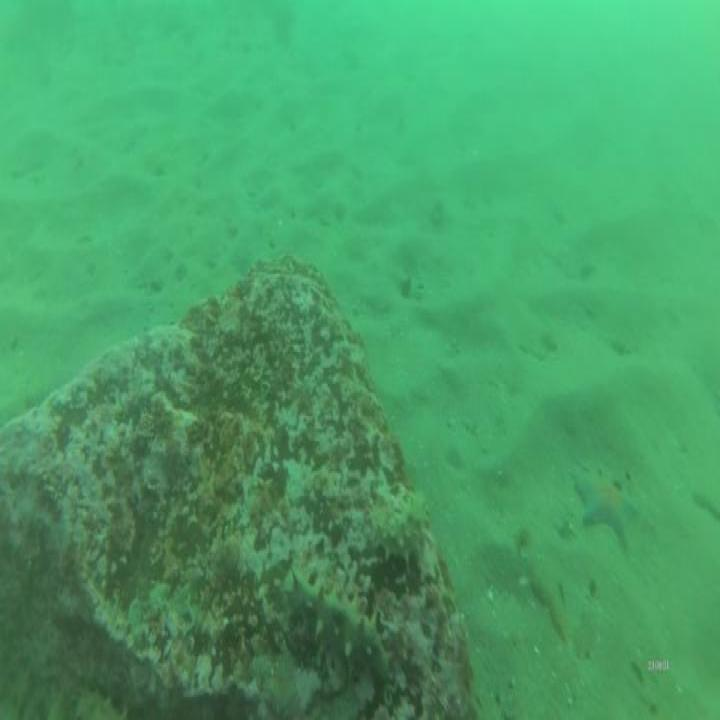holothurian: (283, 564, 391, 688), (360, 489, 432, 569)
starfish: (575, 473, 642, 551)
